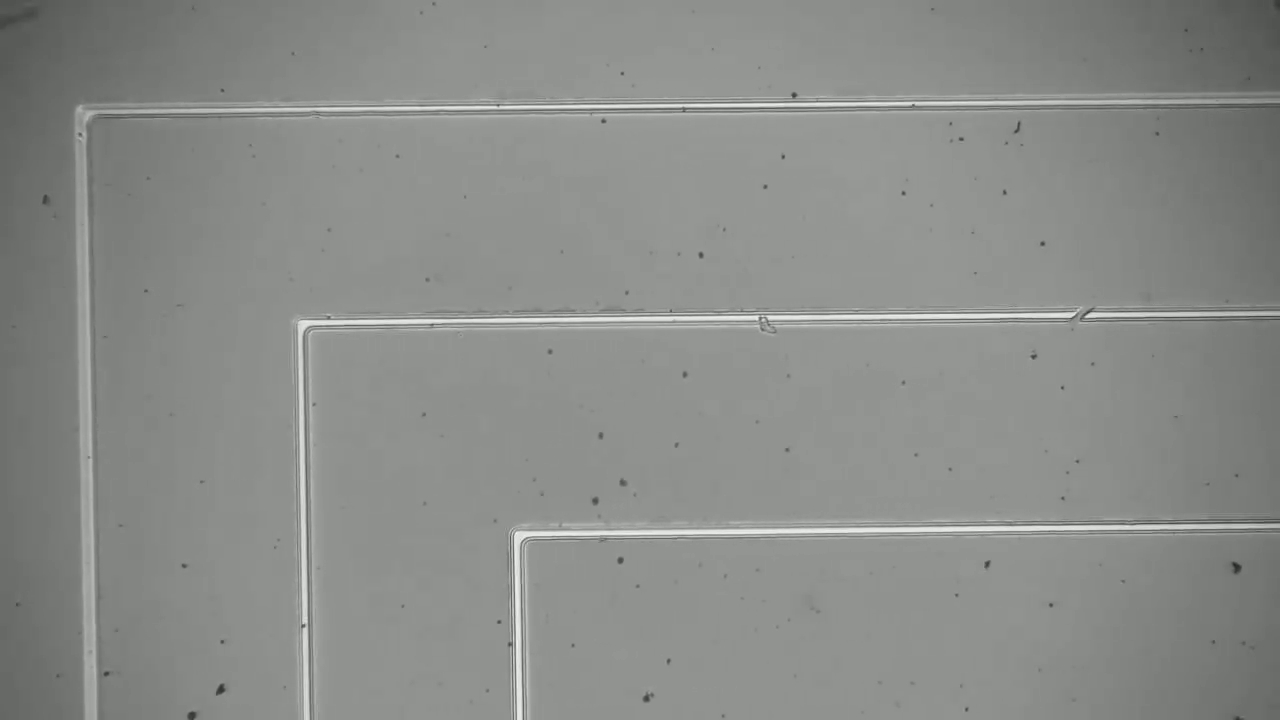open: (1061, 292, 1104, 334)
stains_enbedded: (744, 301, 789, 343)
